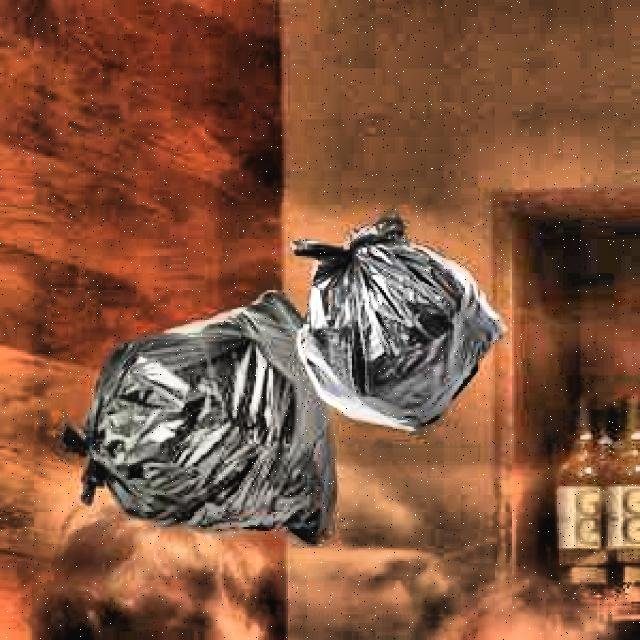Trashbag: (66, 284, 342, 562), (305, 218, 514, 427)
